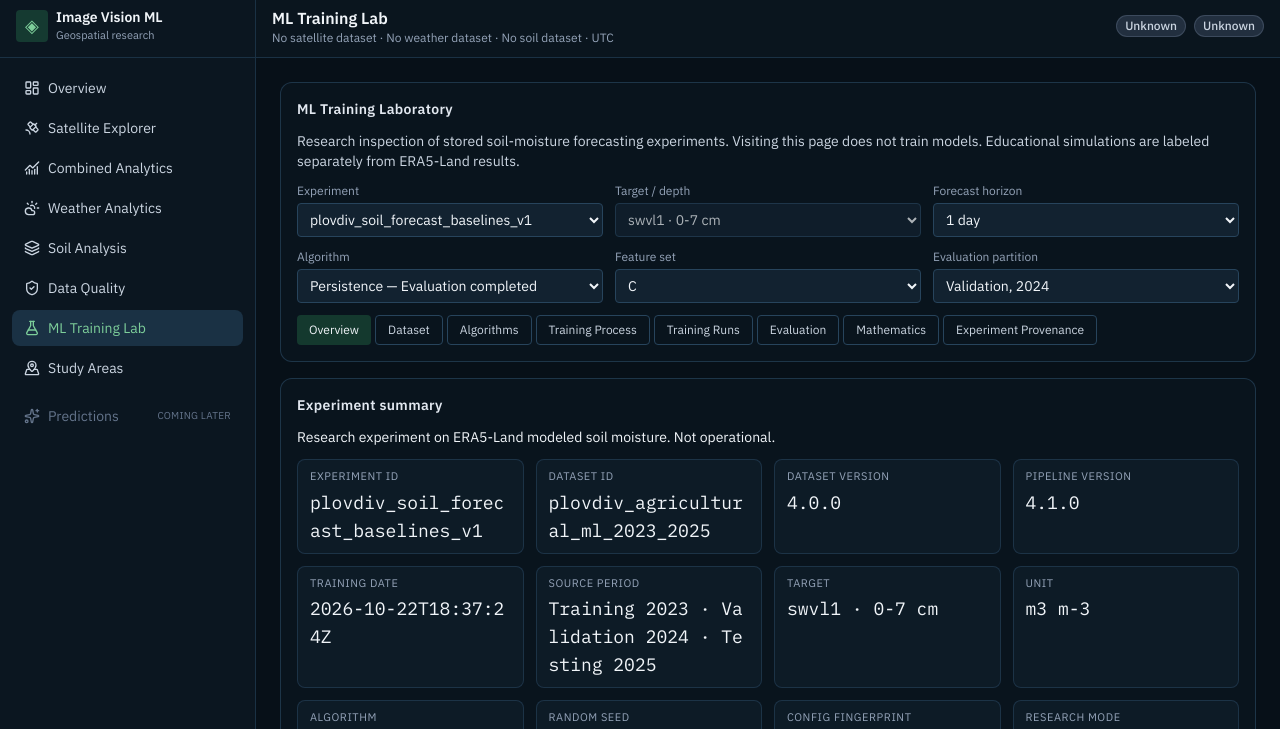
ML Training Laboratory › labels mathematics demonstrations as educational simulations
Expected: the heading "Experiment summary" is shown, [297, 395, 443, 415]
Click the tab "Mathematics".
click(891, 330)  # box [843, 315, 939, 345]
(page scrolled)
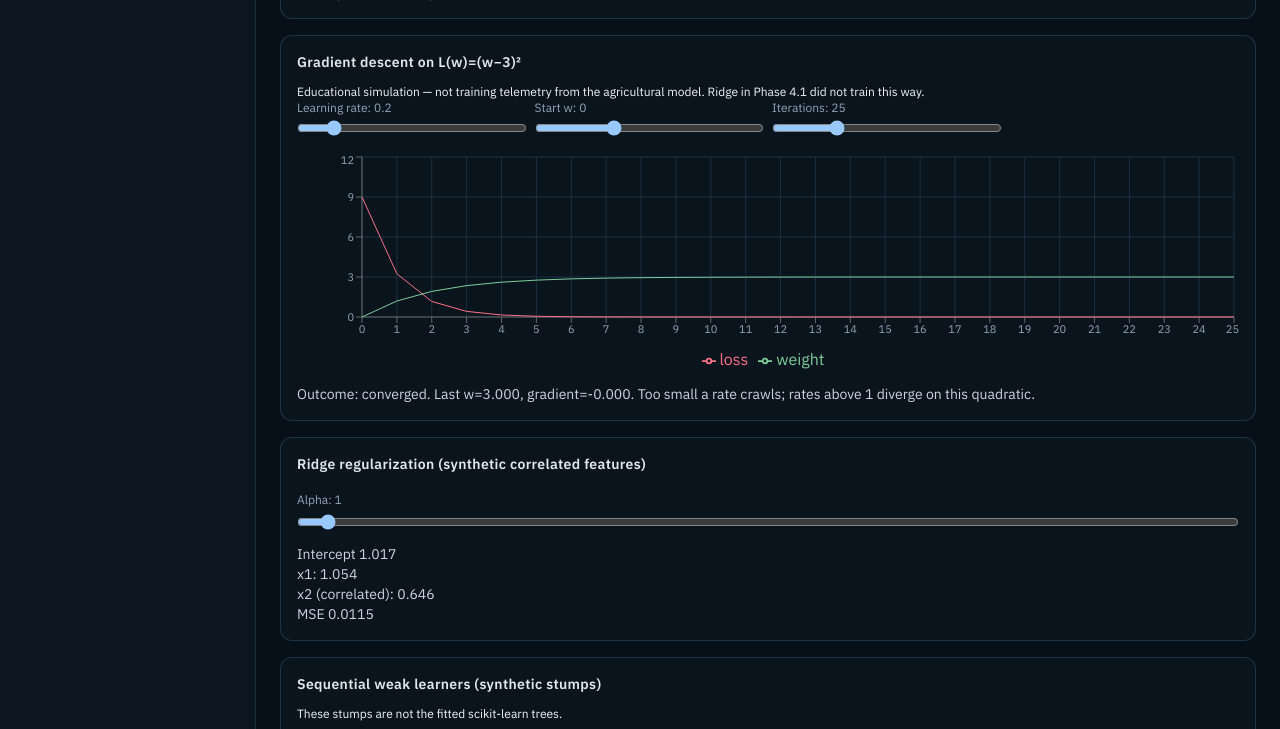
Expected: the text with test id "descent-outcome" shows "converged", [362, 385, 427, 403]
